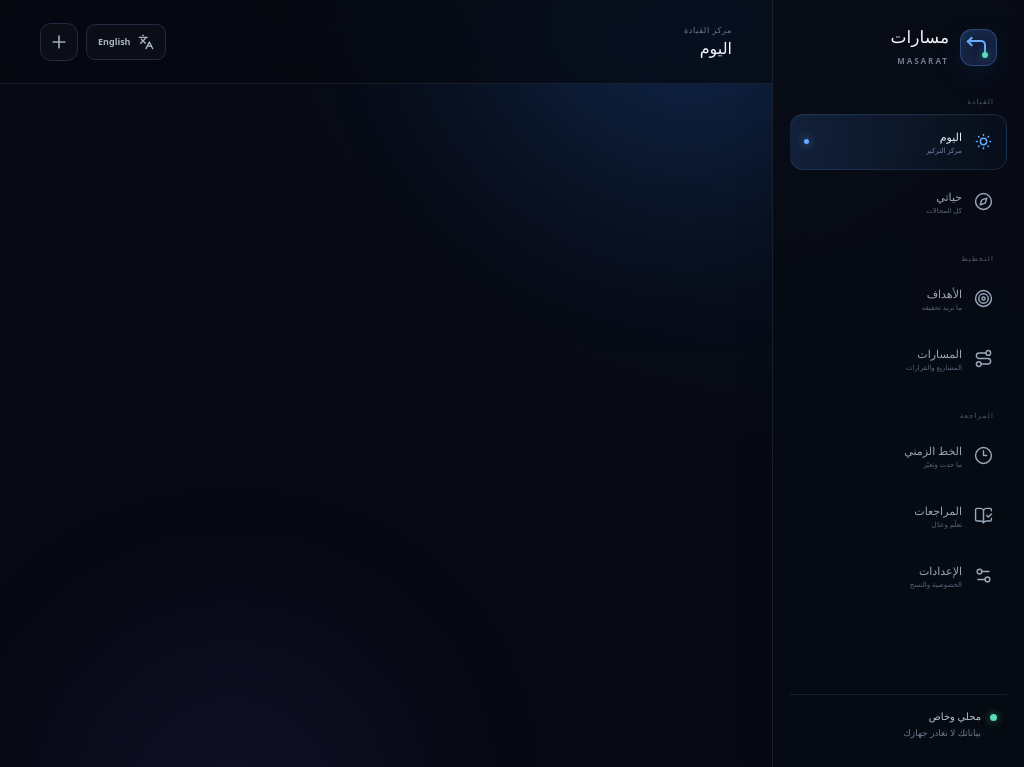
Test: Masarat application shell › opens the My Life overview from the primary navigation
This screenshot has width=1024, height=767.
Click the button "حياتي كل المجالات" at (898, 202), box [790,174,1007,230]
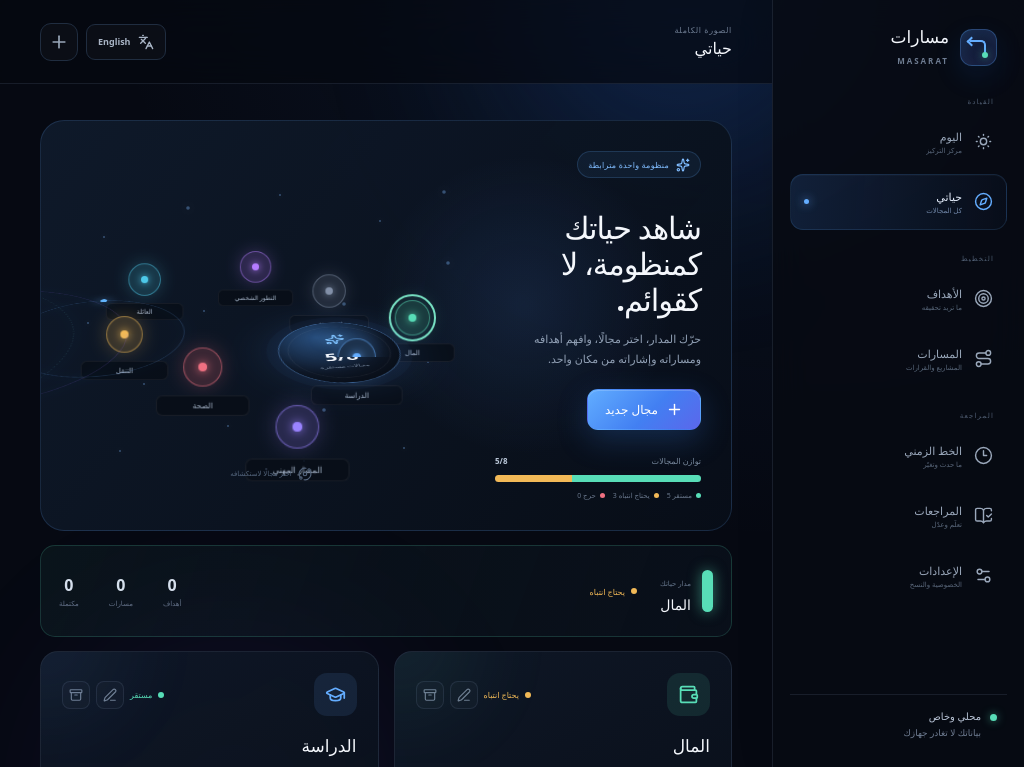
Result: the heading "شاهد حياتك كمنظومة، لا كقوائم." is shown at [561,206,701,320]
Result: the text "التنقل" is shown at [81,361,168,380]
